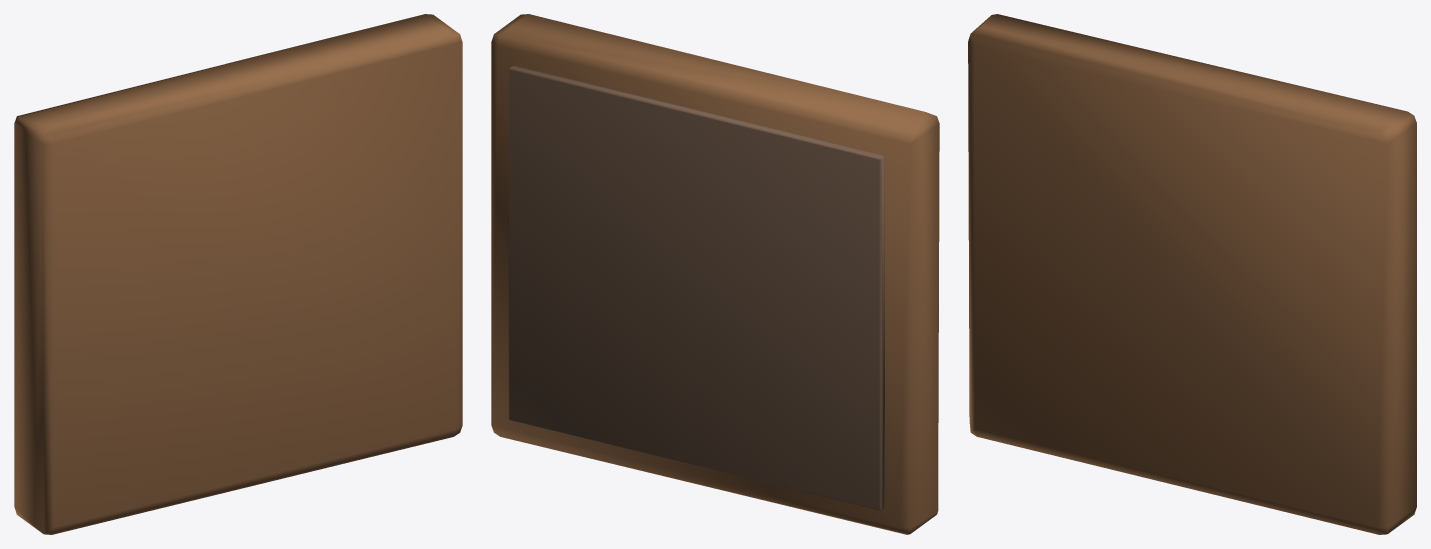
Rendered from farm_plot_watered.glb.
The picture shows the model from 3 angles, left to right: view 1: azimuth 30°, elevation 25°; view 2: azimuth 150°, elevation 25°; view 3: azimuth 330°, elevation 25°; orthographic projection.
Parts seen in each view (by area): view 1: Soil; view 2: WetSoil, Soil; view 3: Soil.
Boxes of the visible parts, x1,y1,x2,y2 form: Soil: [14, 14, 462, 534]; WetSoil: [508, 65, 884, 510]; Soil: [491, 14, 939, 534]; Soil: [968, 14, 1416, 534].
Size of the model in its own units: 1.19 by 1.1 by 0.1825.
